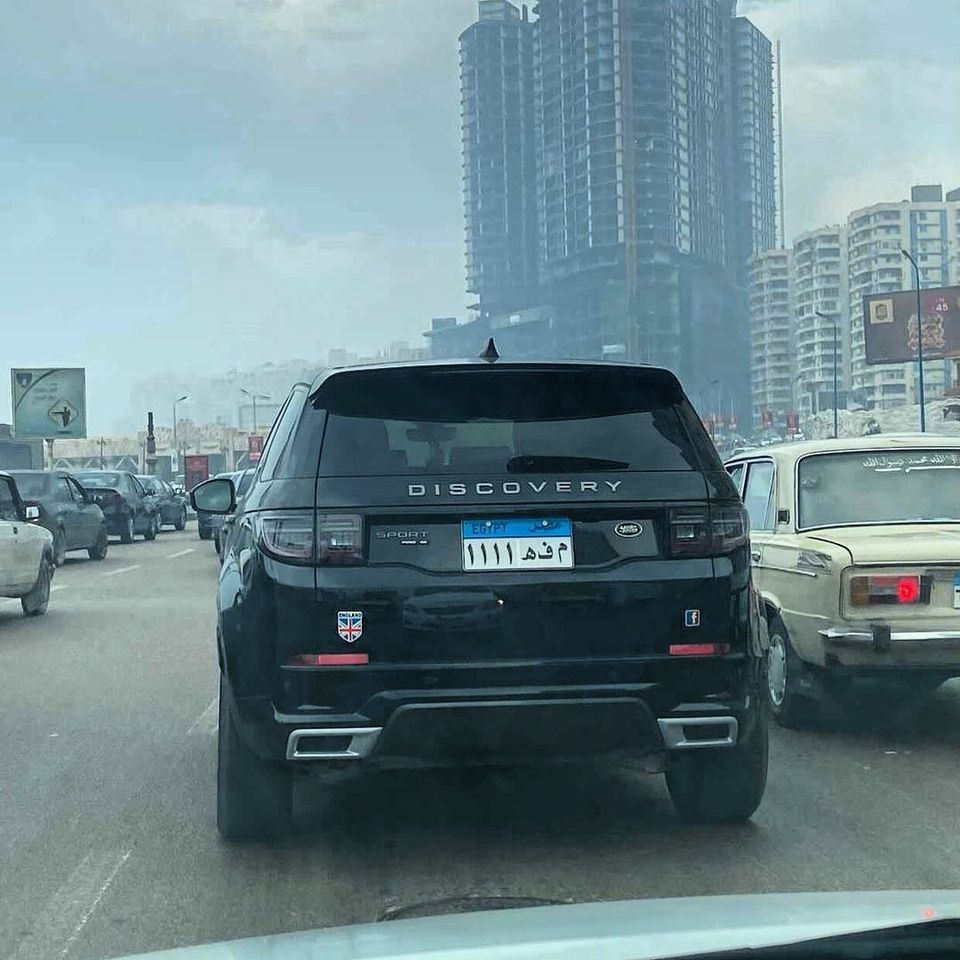carpl: (466, 525, 575, 572)
